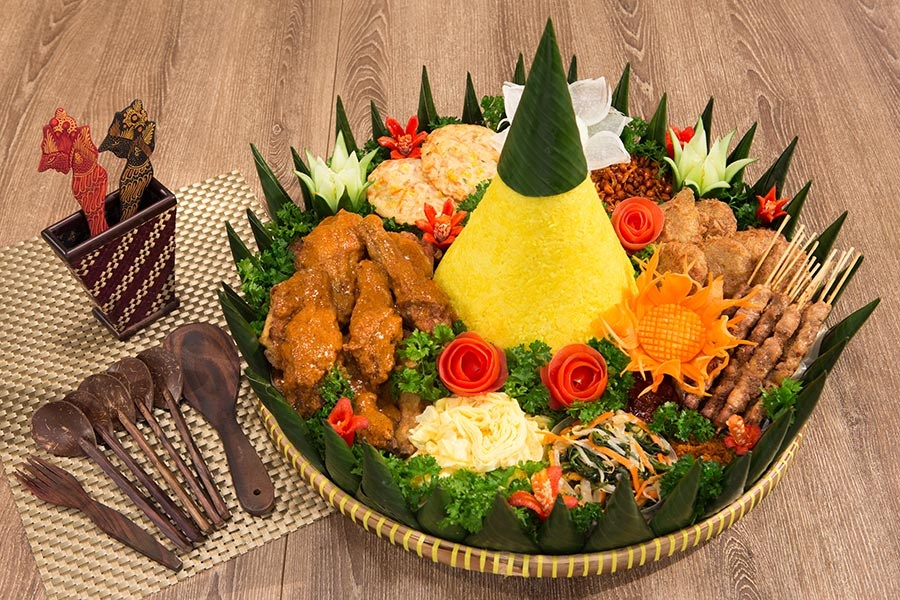tumpeng: (426, 15, 642, 351)
